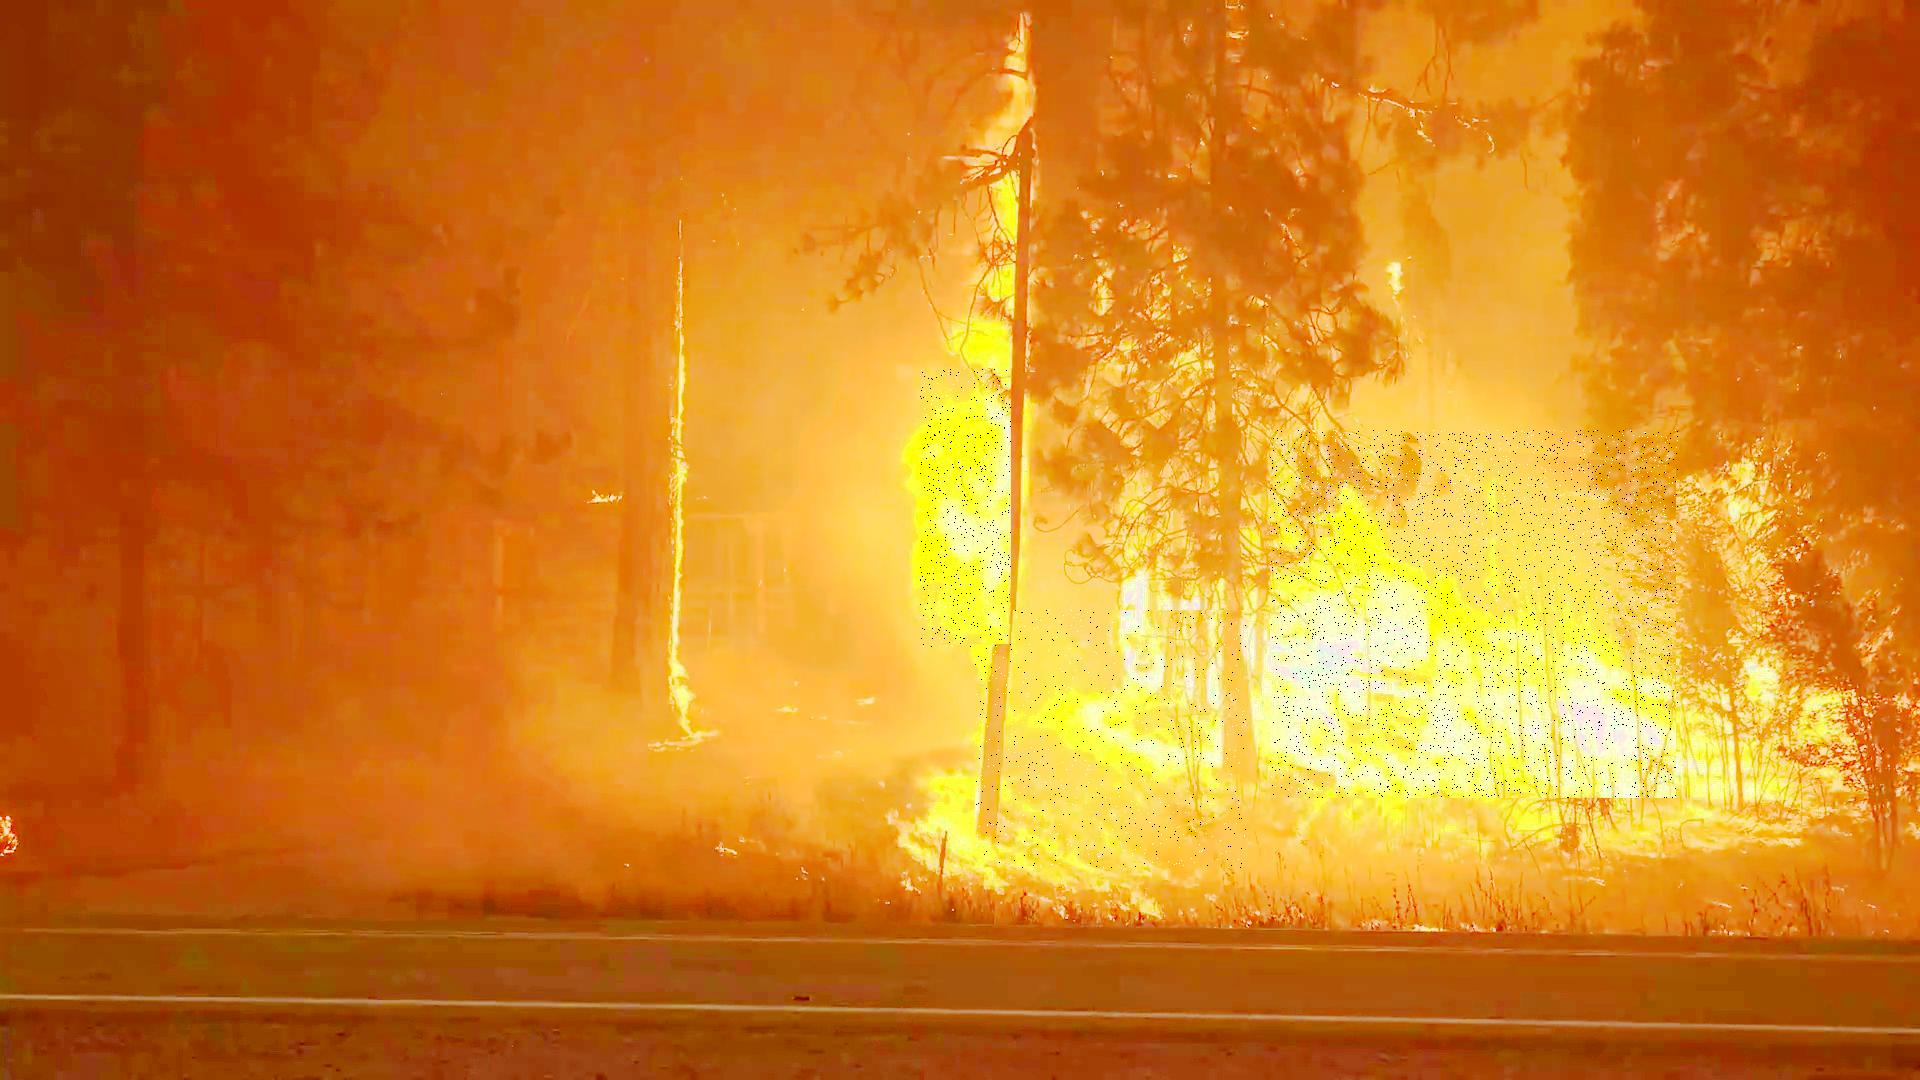fire: (1271, 430, 1679, 798), (976, 611, 1246, 868), (920, 369, 1011, 647)
